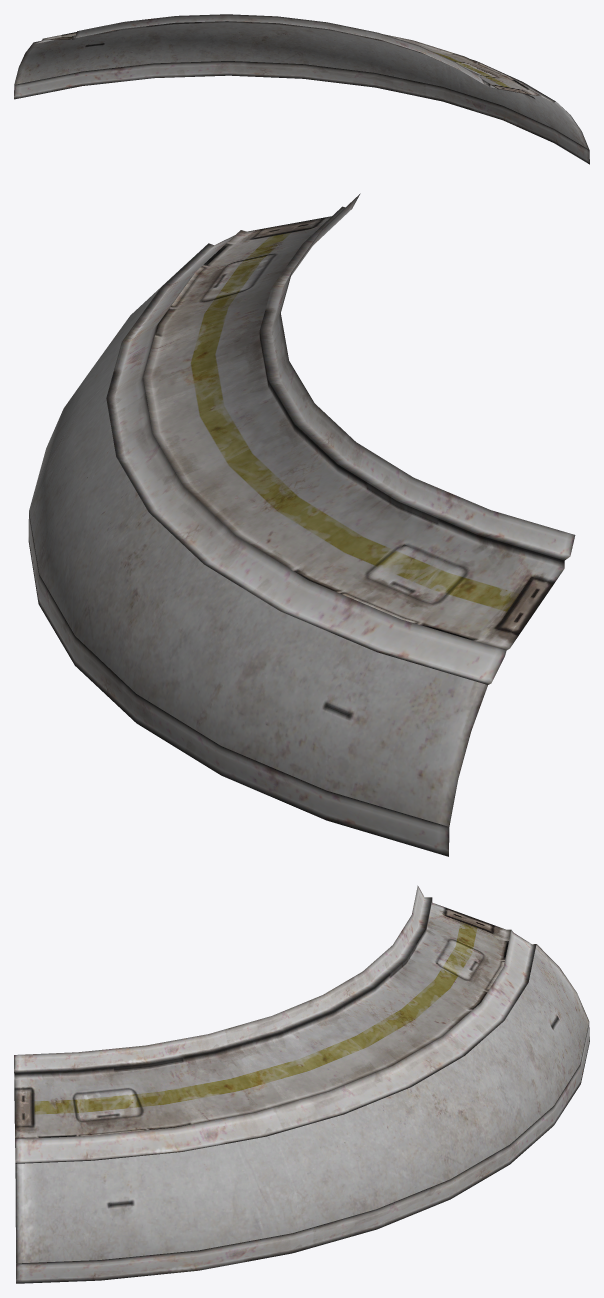
The model's file is theta_ceiling_welder_bend.dae.
The picture shows the model from 3 angles, top to bottom: view 1: azimuth 30°, elevation 25°; view 2: azimuth 150°, elevation 25°; view 3: azimuth 270°, elevation 25°; orthographic projection. The views are drawn at different scales.
Parts seen in each view (by area): view 1: theta_ceiling_connector_bend; view 2: theta_ceiling_connector_bend; view 3: theta_ceiling_connector_bend.
Boxes of the visible parts, x1=… form: theta_ceiling_connector_bend: x1=14, y1=14, x2=589, y2=164; theta_ceiling_connector_bend: x1=28, y1=193, x2=575, y2=856; theta_ceiling_connector_bend: x1=14, y1=885, x2=589, y2=1283.
Bounding box in the file's own units: 2.5 × 0.75 × 2.51.
